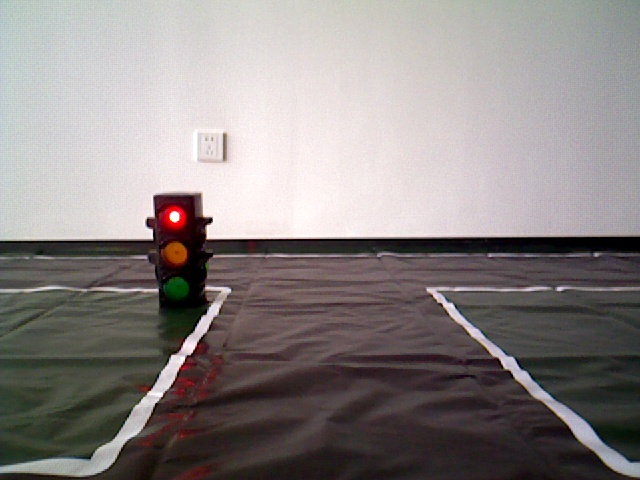red: (154, 196, 206, 298)
